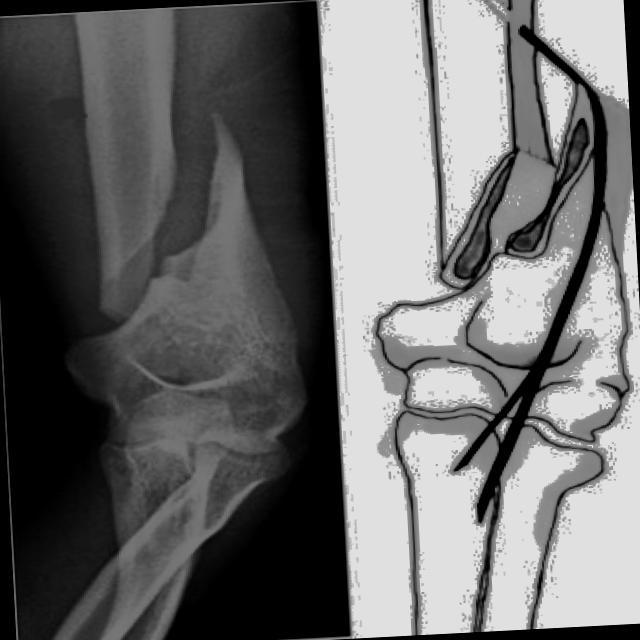Impact Fracture: (91, 151, 241, 304)
